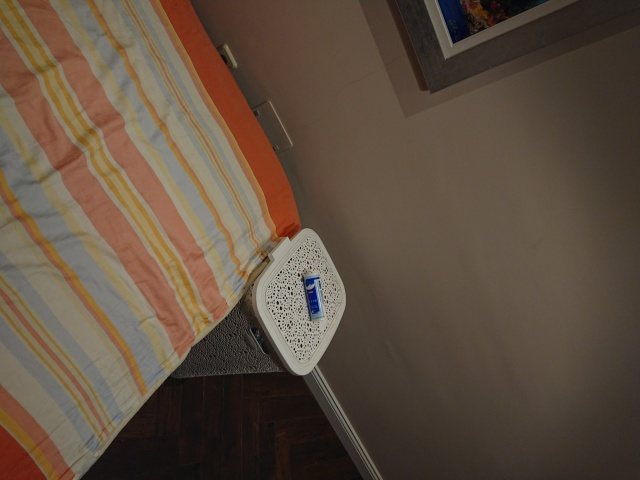Solana Pag Fine Sea Salt 250g: (299, 271, 329, 323)
